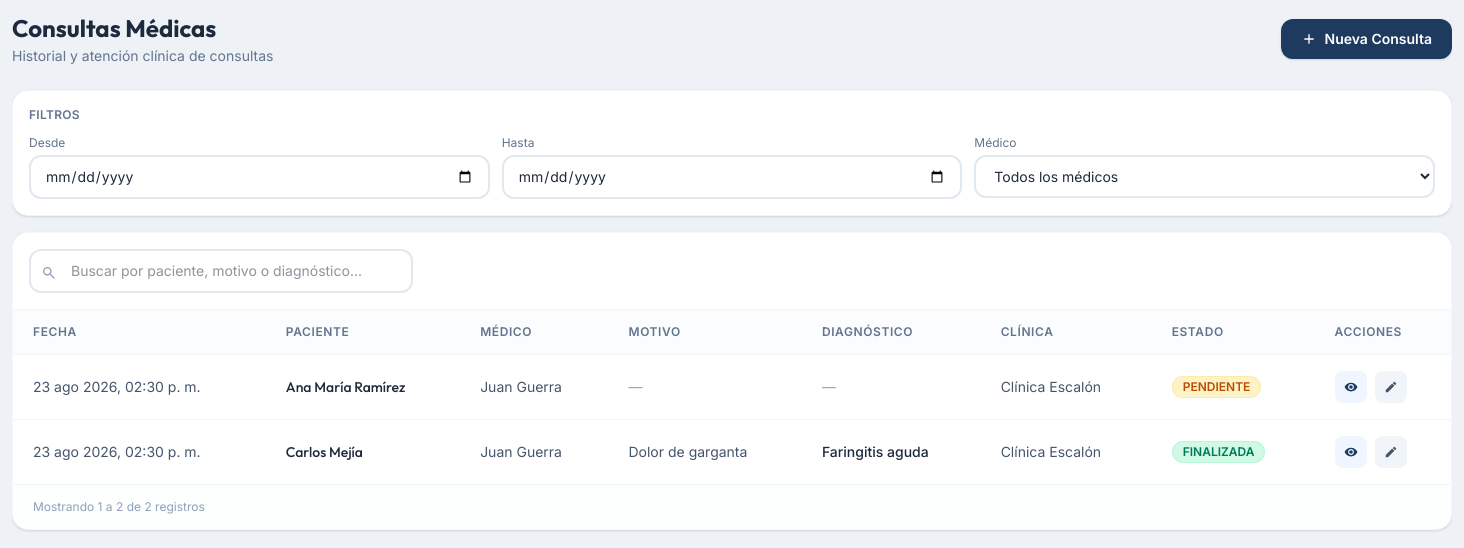
consultas · buscar con una consulta sin motivo en la lista › no revienta al teclear, y la consulta sin motivo no coincide
Expected: the link "Ana María Ramírez" is shown, left=286, top=378, right=405, bottom=396
Type "dolor" into the field with placeholder "Buscar por paciente, motivo o diagnóstico...". click: (221, 271)
box: left=29, top=249, right=413, bottom=293
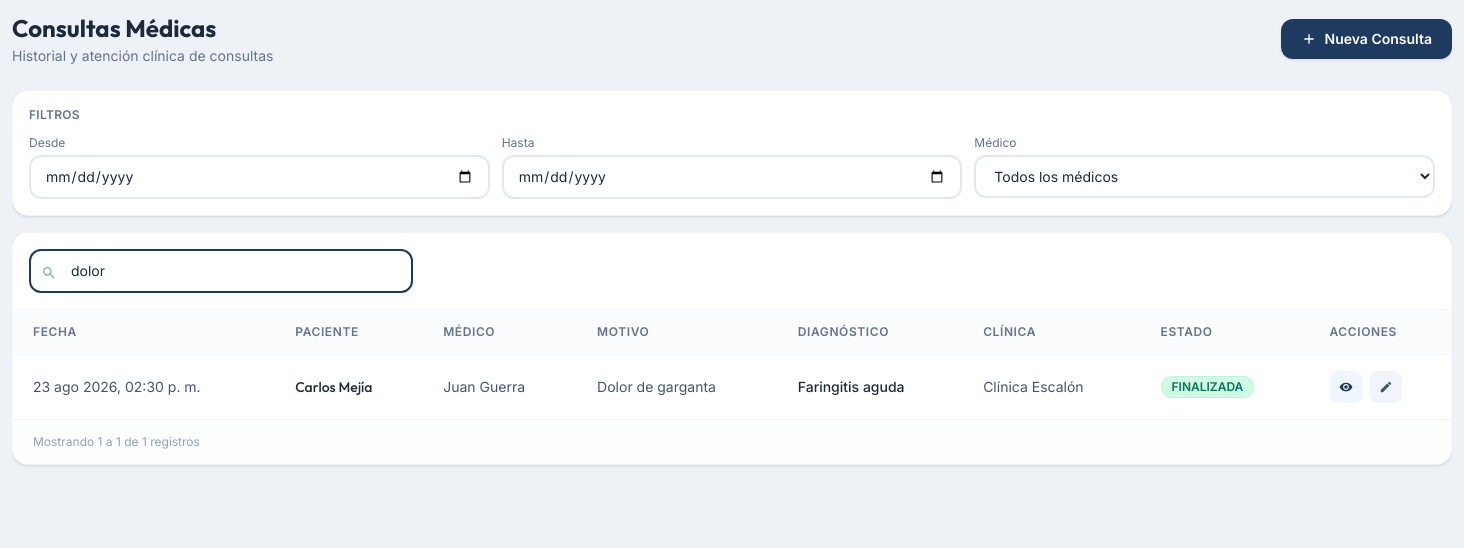
Expected: the link "Carlos Mejía" is shown, left=295, top=378, right=372, bottom=396
Result: the link "Ana María Ramírez" is gone
